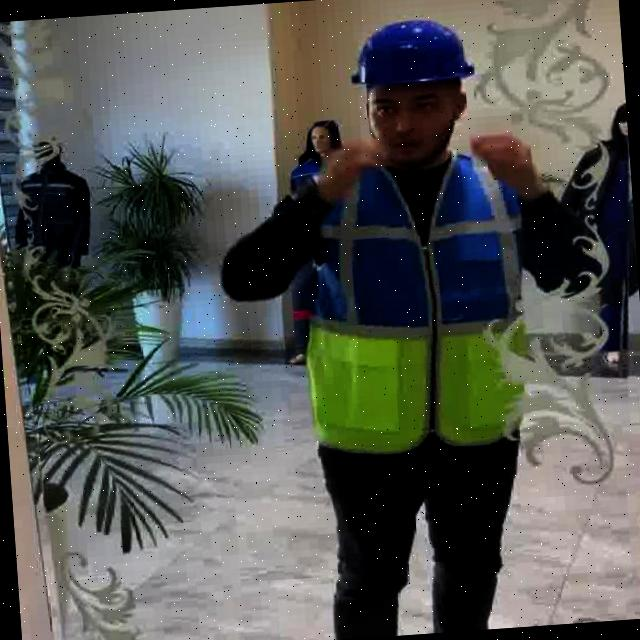helmet: (346, 16, 476, 90)
vest: (293, 143, 542, 464)
